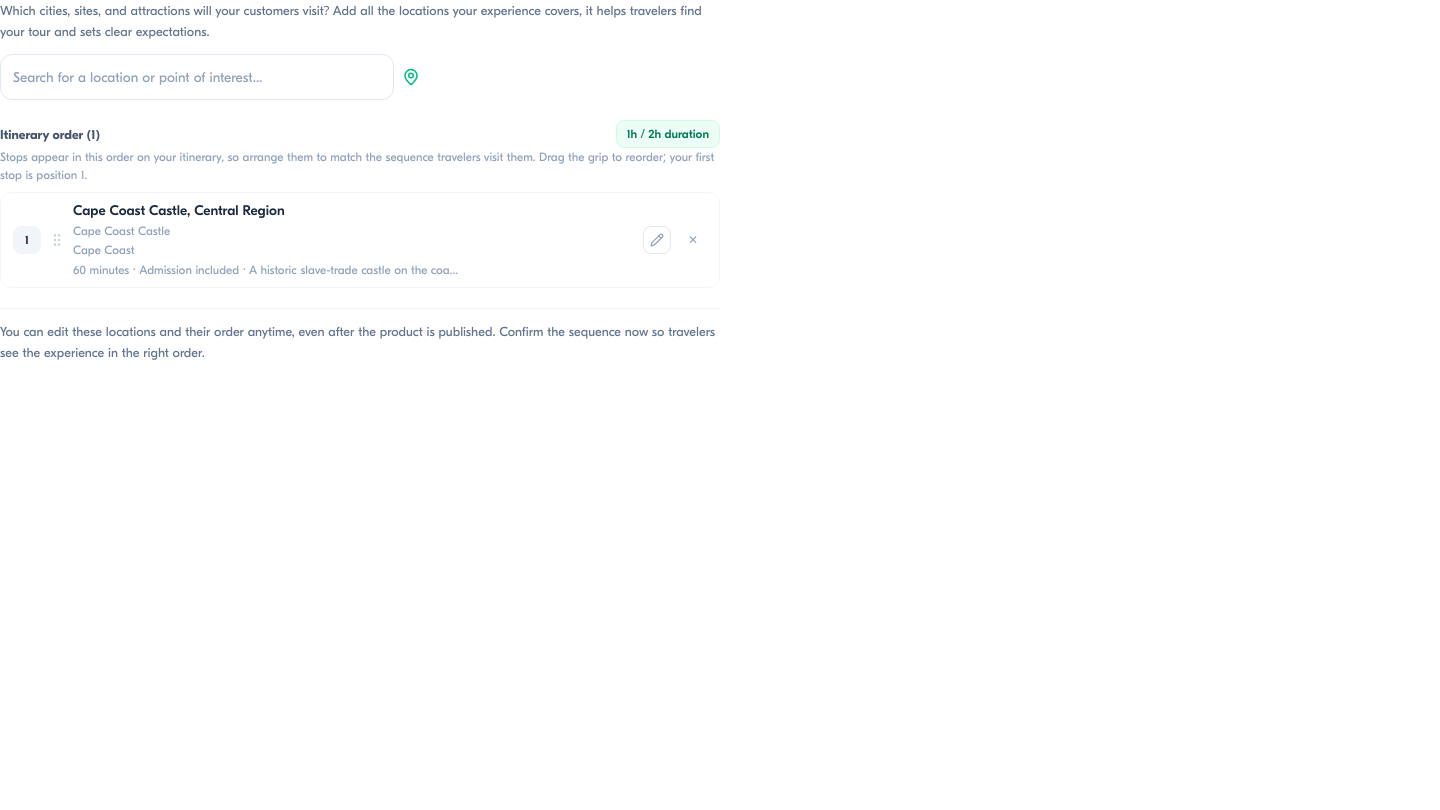
it: Step05 location modal — custom name reveals the City picker › keeps the City field hidden for a stop that already has a city
This screenshot has width=1440, height=810.
Click the button titled "Edit details": (657, 240) [643,226,671,254]
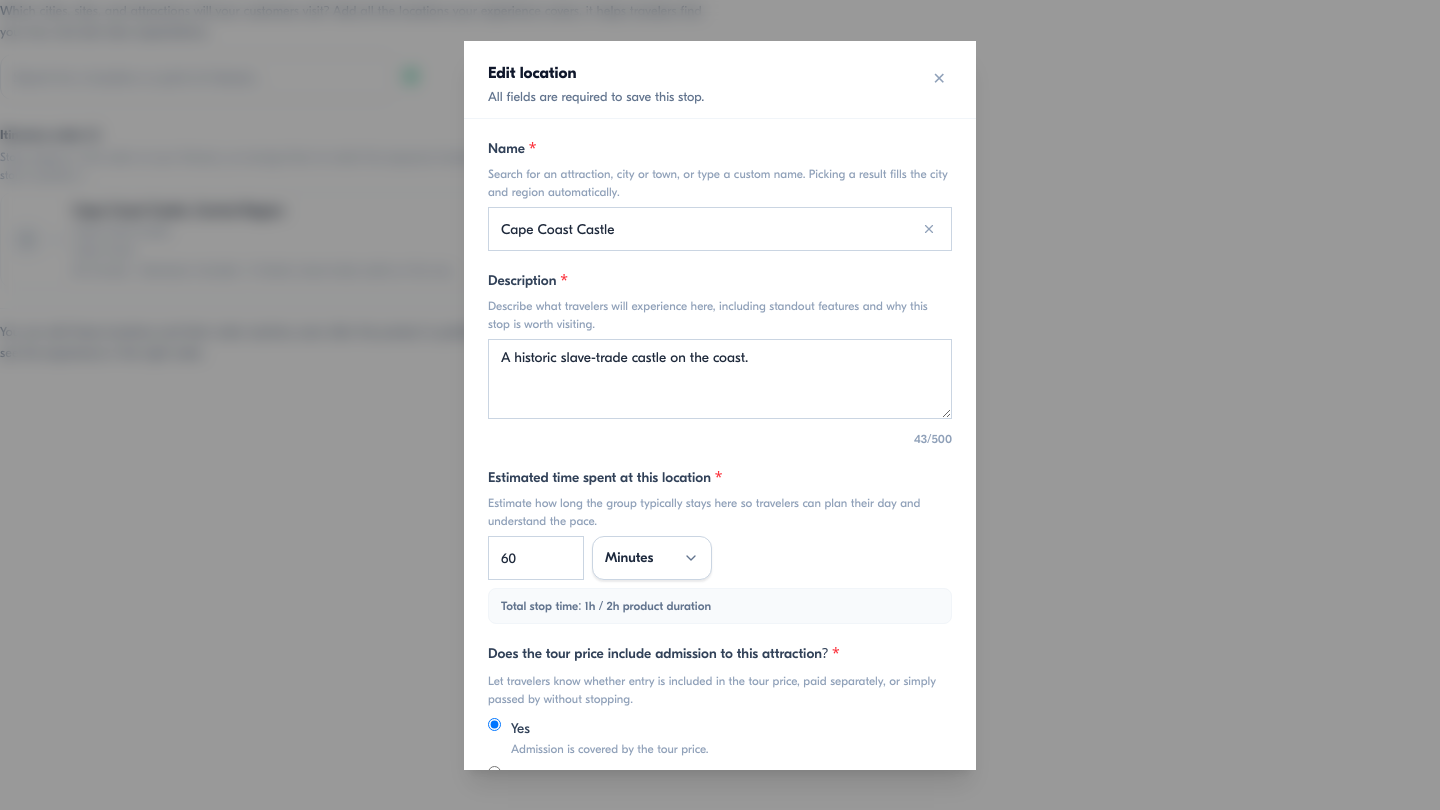
Check: the heading "Edit location" is shown, box [488,64,576,82]
